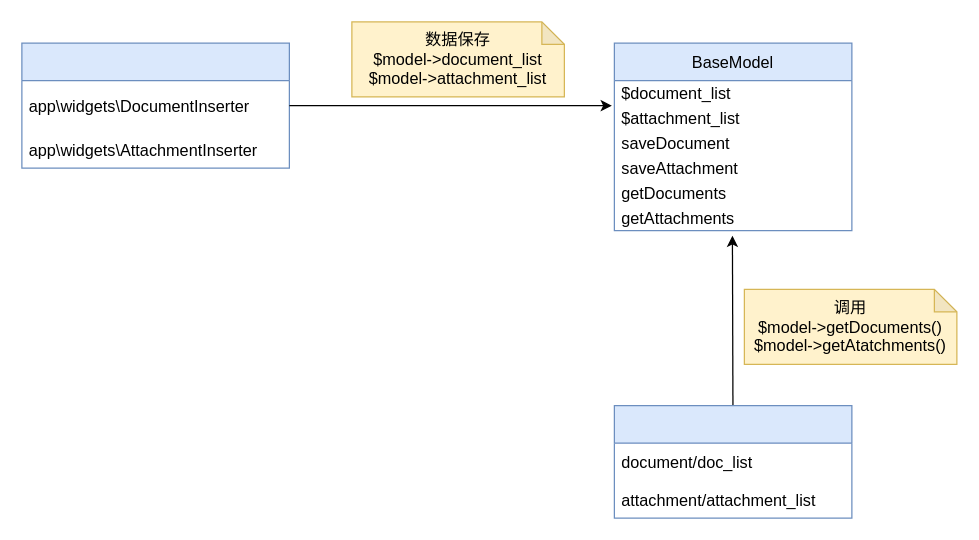
Image size: 979x540. Some labels were removed from this diagram. The box of each missing label's shape, as (x1, y1, x2, y2) in pixels:
上传组件: (21, 42, 289, 168)
渲染视图: (613, 404, 852, 518)
